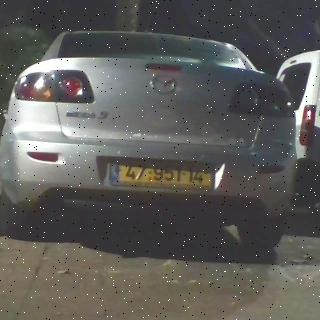LicensePlate: (119, 159, 213, 186)
